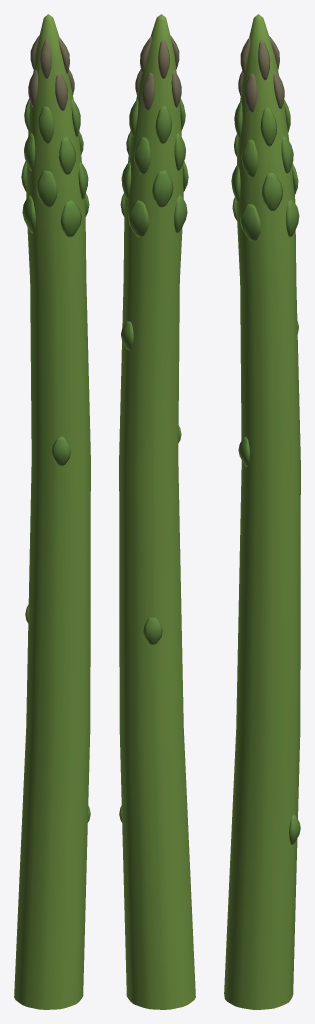
3 views of the same model, side by side, from view 1: azimuth 30°, elevation 25°; view 2: azimuth 150°, elevation 25°; view 3: azimuth 330°, elevation 25° (orthographic).
Visible parts, largest first — view 1: Continuous harvested stalk and bud core, Pointed attached scale 6, Pointed attached scale 3, Pointed attached scale 11, Pointed attached scale 14, Pointed attached scale 26, Pointed attached scale 19, Pointed attached scale 2, Pointed attached scale 22, Pointed attached scale 10, Pointed attached scale 18, Pointed attached scale 7 (+2 smaller); view 2: Continuous harvested stalk and bud core, Pointed attached scale 5, Pointed attached scale 1, Pointed attached scale 9, Pointed attached scale 13, Pointed attached scale 25, Pointed attached scale 17, Pointed attached scale 2, Pointed attached scale 21, Pointed attached scale 10, Pointed attached scale 27, Pointed attached scale 18 (+3 smaller); view 3: Continuous harvested stalk and bud core, Pointed attached scale 7, Pointed attached scale 3, Pointed attached scale 11, Pointed attached scale 15, Pointed attached scale 19, Pointed attached scale 0, Pointed attached scale 23, Pointed attached scale 8, Pointed attached scale 16, Pointed attached scale 6, Pointed attached scale 24 (+3 smaller).
Boxes of the visible parts, <box> form: Continuous harvested stalk and bud core: <box>14,14,90,1009</box>; Pointed attached scale 6: <box>36,170,57,207</box>; Pointed attached scale 3: <box>60,200,81,237</box>; Pointed attached scale 11: <box>59,137,75,174</box>; Pointed attached scale 14: <box>38,106,54,143</box>; Pointed attached scale 26: <box>51,436,70,466</box>; Pointed attached scale 19: <box>55,72,67,110</box>; Pointed attached scale 2: <box>22,195,35,233</box>; Pointed attached scale 22: <box>40,39,51,78</box>; Pointed attached scale 10: <box>24,133,35,170</box>; Pointed attached scale 18: <box>28,69,38,107</box>; Pointed attached scale 7: <box>78,161,88,199</box>; Continuous harvested stalk and bud core: <box>119,14,195,1009</box>; Pointed attached scale 5: <box>152,170,173,207</box>; Pointed attached scale 1: <box>128,200,149,237</box>; Pointed attached scale 9: <box>134,137,150,174</box>; Pointed attached scale 13: <box>155,106,171,143</box>; Pointed attached scale 25: <box>143,617,162,644</box>; Pointed attached scale 17: <box>142,72,154,110</box>; Pointed attached scale 2: <box>174,195,187,233</box>; Pointed attached scale 21: <box>158,39,169,78</box>; Pointed attached scale 10: <box>174,133,185,170</box>; Pointed attached scale 27: <box>121,320,133,350</box>; Pointed attached scale 18: <box>171,69,181,107</box>; Continuous harvested stalk and bud core: <box>224,14,300,1009</box>; Pointed attached scale 7: <box>262,172,283,211</box>; Pointed attached scale 3: <box>240,204,260,241</box>; Pointed attached scale 11: <box>241,139,258,177</box>; Pointed attached scale 15: <box>260,107,277,146</box>; Pointed attached scale 19: <box>244,73,257,112</box>; Pointed attached scale 0: <box>286,199,299,237</box>; Pointed attached scale 23: <box>258,40,270,80</box>; Pointed attached scale 8: <box>281,135,293,173</box>; Pointed attached scale 16: <box>273,71,284,108</box>; Pointed attached scale 6: <box>231,165,240,202</box>; Pointed attached scale 24: <box>289,814,300,844</box>.
Bounding box in the file's own units: 0.0163 × 0.22 × 0.0141.
